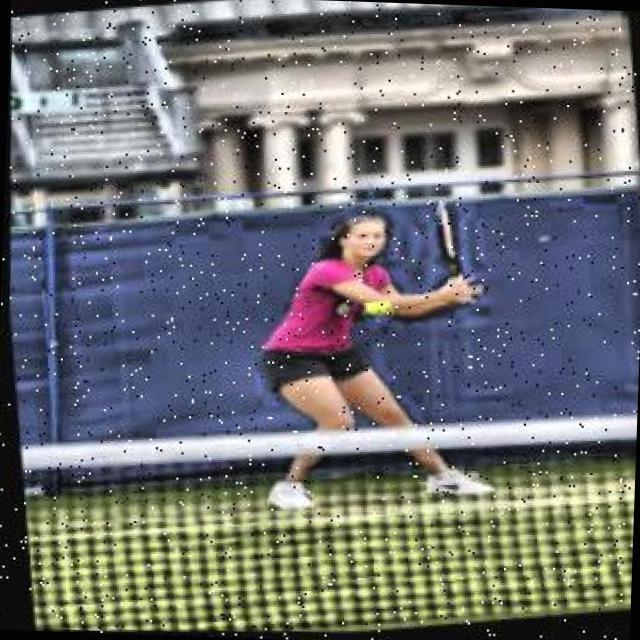Tennis Ball: (362, 302, 392, 330)
